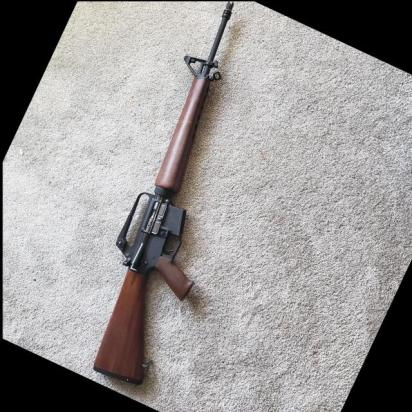Gun: (92, 1, 236, 385)
